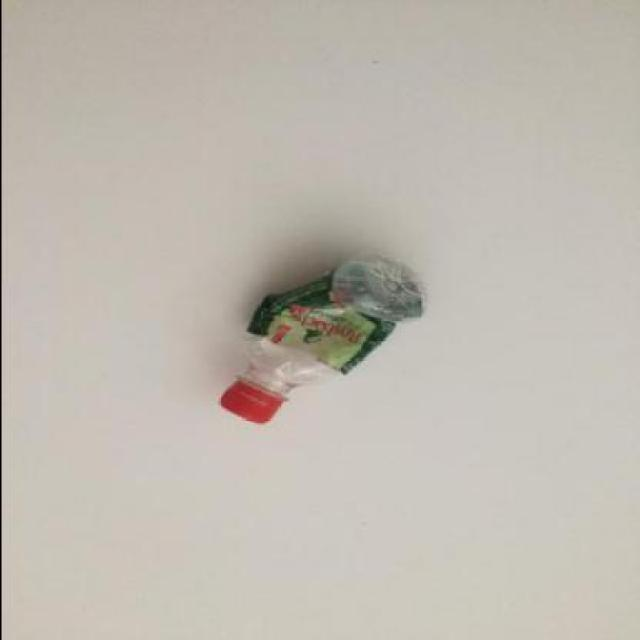PLASTIC: (213, 258, 425, 425), (243, 270, 394, 376), (215, 382, 277, 426)
